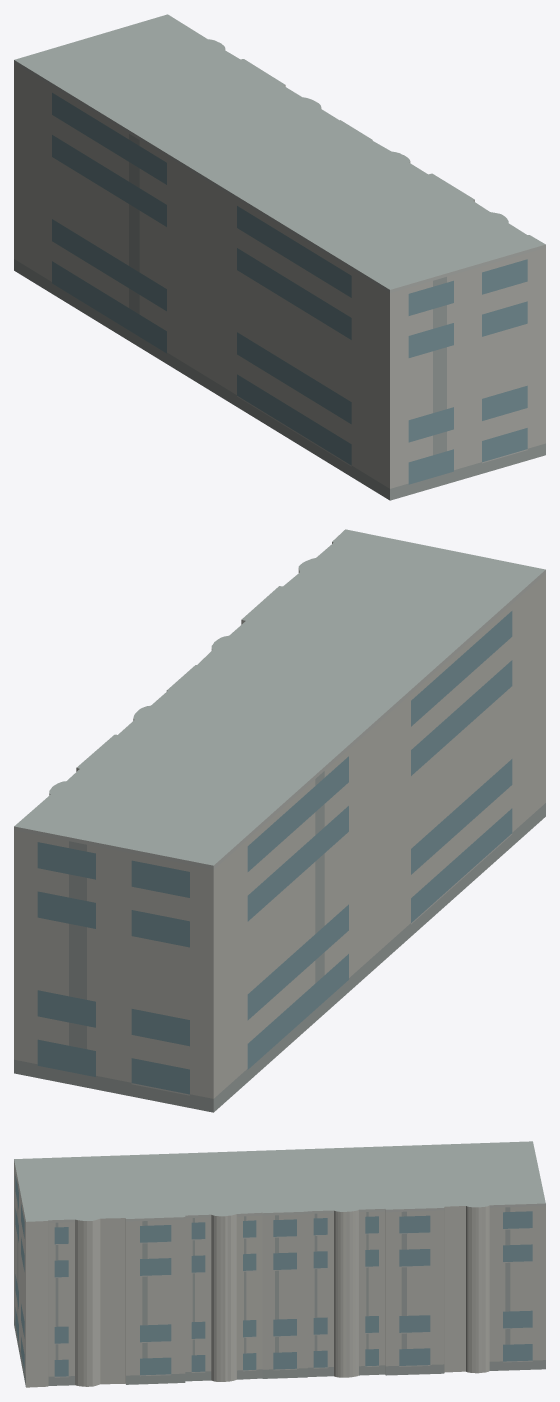
The model's file is survey-upis-32841320.glb.
3 renders of one model, top to bottom at view 1: azimuth 30°, elevation 25°; view 2: azimuth 150°, elevation 25°; view 3: azimuth 270°, elevation 25°, orthographic. The views are drawn at different scales.
Visible parts, largest first — view 1: survey-upis-32841320.tmp; view 2: survey-upis-32841320.tmp; view 3: survey-upis-32841320.tmp.
Boxes of the visible parts, left/top/right/bottom form: survey-upis-32841320.tmp: left=14, top=14, right=545, bottom=500; survey-upis-32841320.tmp: left=14, top=529, right=545, bottom=1112; survey-upis-32841320.tmp: left=14, top=1141, right=545, bottom=1387.
Size of the model in its own units: 15.89 by 15.25 by 44.36.
